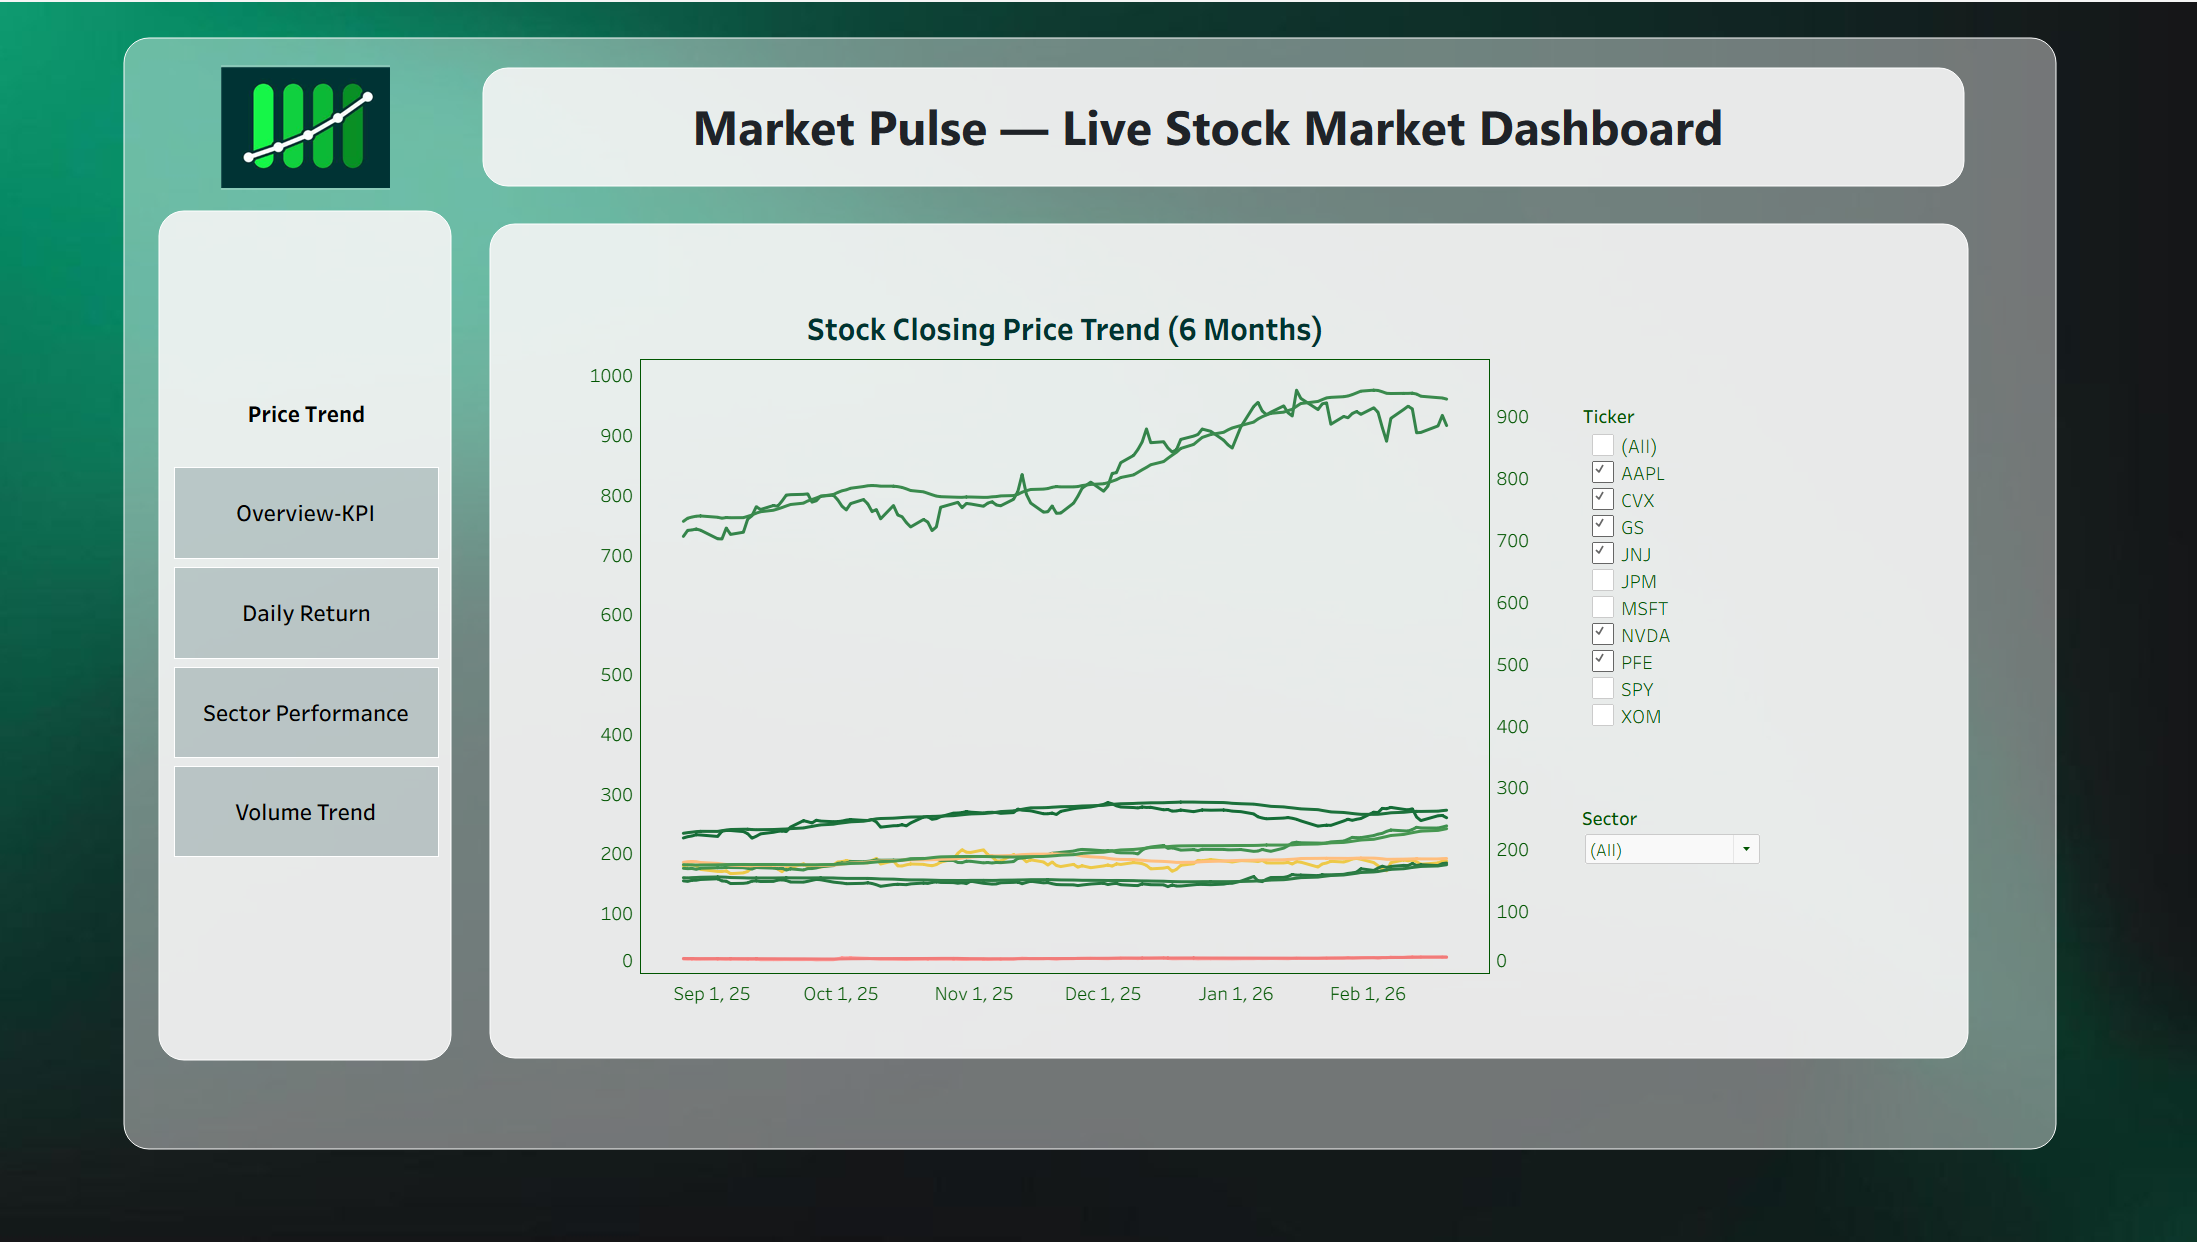

The dashboard page shown, as its layout file describes it:
{"tool":"tableau","page":{"name":"Price Trend Dashboard ","canvas":[1000,1000],"units":"permille","ordinal":2},"visuals":[{"type":"image","param":"C:/Users/samor/OneDrive/Desktop/4067d5a5f7cf7e6f15b997b1403af699.jpg","box":[0,0,861.2,863.4]},{"type":"worksheet","title":"OTHER-D","mark":"Automatic","box":[15,18.2,820.5,827]},{"type":"image","param":"C:/Users/samor/AppData/Local/Temp/TableauTemp/0qbzxmv0kf742318mn2140u93hgg/Sheet","box":[87.5,56.1,69,89.3]},{"type":"text","box":[209.1,71.9,531.4,55.3]},{"type":"worksheet","title":"Price Trend","mark":"Line","rows":["Close","Calculation_0243583190683652"],"cols":["Date"],"box":[232.5,218,372.7,470]},{"type":"text","box":[69.1,258.2,106.6,66.9]},{"type":"filter","title":"Price Trend","param":"[federated.1v5bl0h08547lg1gbtx6f1lob0uy].[none:Ticker:nk]","box":[621.1,285.2,70.7,259.9]},{"type":"dashboard-object","box":[69.1,325.1,106.6,66.9]},{"type":"filter","title":"Price Trend","param":"[federated.1v5bl0h08547lg1gbtx6f1lob0uy].[none:Sector:nk]","box":[686.1,350.7,70.7,153.2]},{"type":"dashboard-object","box":[69.1,392,106.6,66.9]},{"type":"dashboard-object","box":[69.1,458.9,106.6,66.2]},{"type":"dashboard-object","box":[69.1,525.1,106.6,66.2]}]}

Visuals, with their boxes on the dashboard's canvas, which has no fixed pixel size, in thousandths of its width and height (x1, y1, x2, y2). These are canvas units, not pixel positions in the 2197x1242 screenshot, which may show the page scaled, cropped or inside an application window:
image: left=0, top=0, right=861, bottom=863
"OTHER-D" worksheet: left=15, top=18, right=836, bottom=845
image: left=88, top=56, right=156, bottom=145
text: left=209, top=72, right=740, bottom=127
"Price Trend" worksheet (Line marks): left=232, top=218, right=605, bottom=688
text: left=69, top=258, right=176, bottom=325
"Price Trend" filter: left=621, top=285, right=692, bottom=545
dashboard-object: left=69, top=325, right=176, bottom=392
"Price Trend" filter: left=686, top=351, right=757, bottom=504
dashboard-object: left=69, top=392, right=176, bottom=459
dashboard-object: left=69, top=459, right=176, bottom=525
dashboard-object: left=69, top=525, right=176, bottom=591
